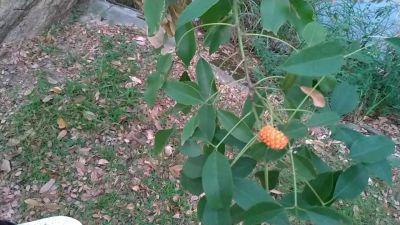eggs: (259, 124, 285, 151)
